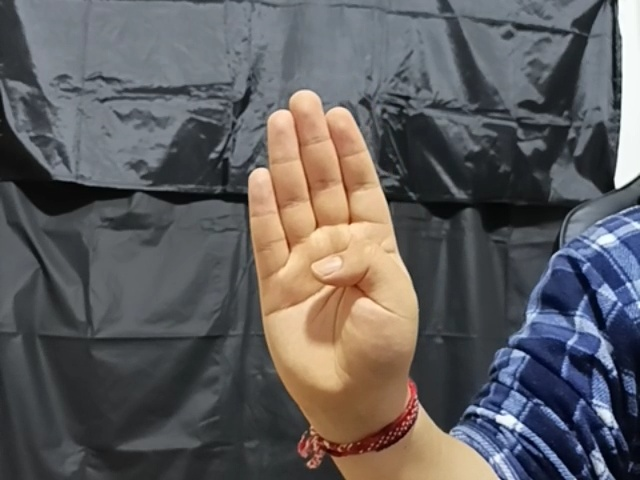B: (240, 88, 423, 405)
